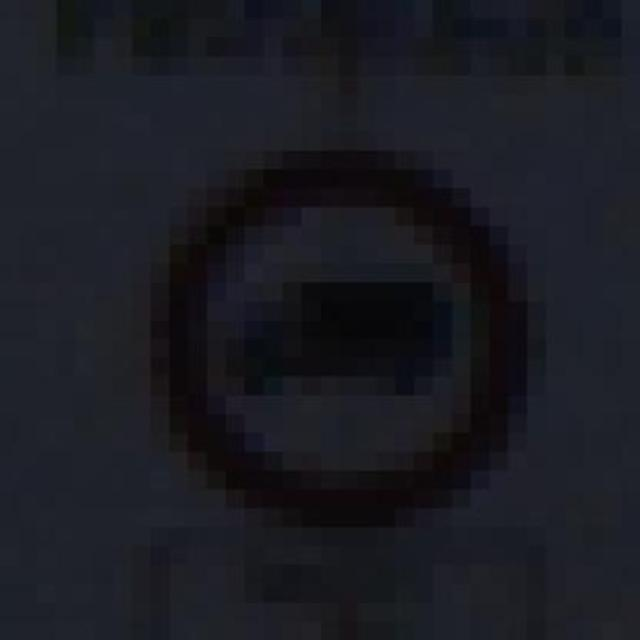Truck traffic is prohibited: (118, 127, 552, 541)
